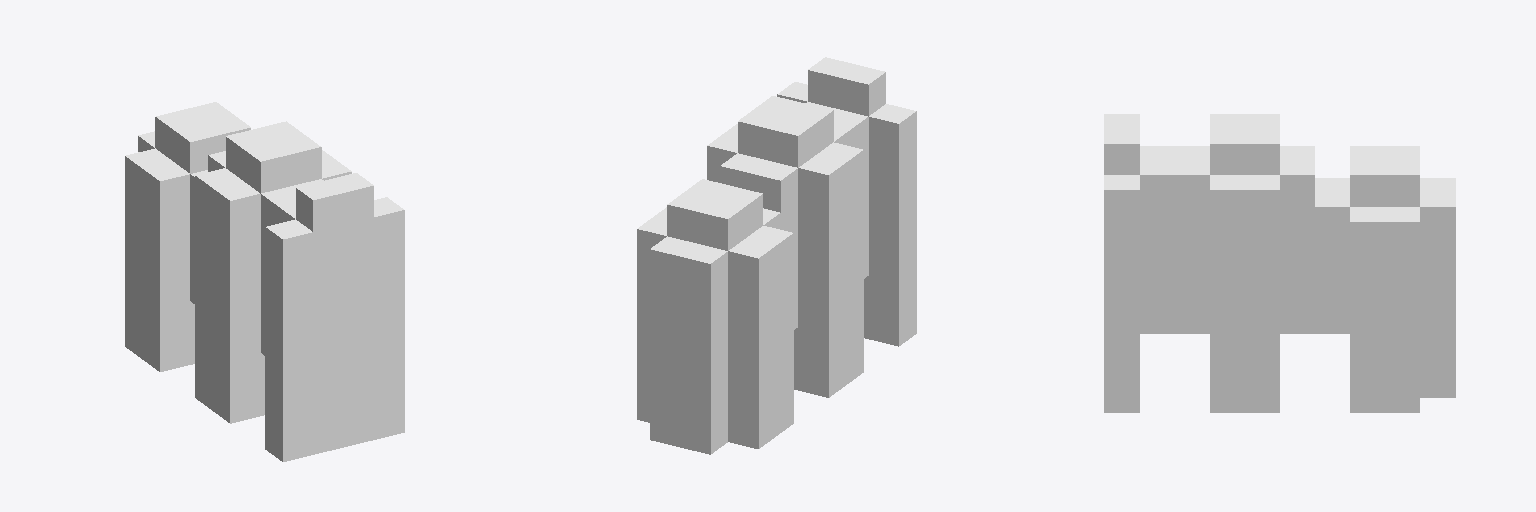
Rendered from Dungeon-9-Fence-End.obj.
The picture shows the model from 3 angles: view 1: azimuth 30°, elevation 25°; view 2: azimuth 150°, elevation 25°; view 3: azimuth 270°, elevation 25°; orthographic projection.
Visible parts, largest first — view 1: Fence-End; view 2: Fence-End; view 3: Fence-End.
Part boxes in pixels (x1,y1,x2,y2): Fence-End: (125, 102, 404, 461); Fence-End: (637, 57, 916, 454); Fence-End: (1104, 114, 1455, 412).
Size of the model in its own units: 0.4 by 0.8 by 1.